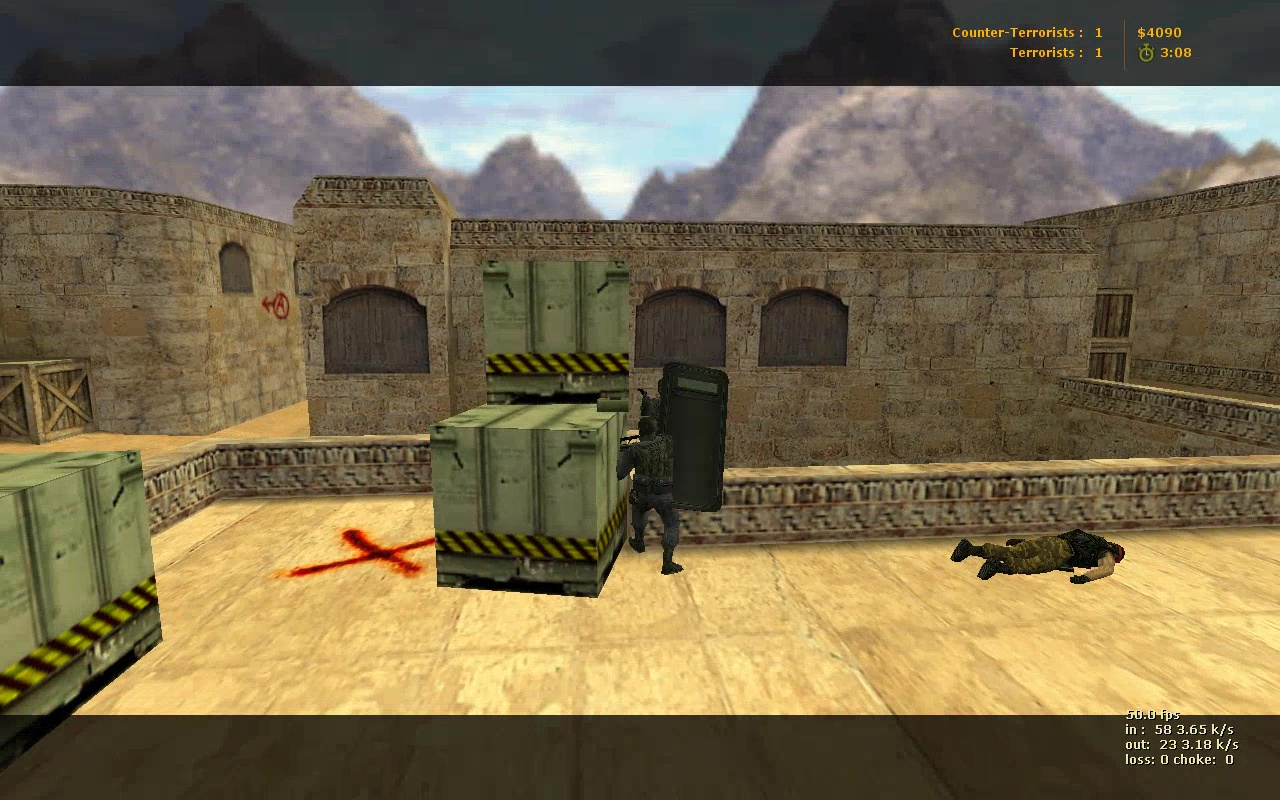ct: (616, 365, 725, 577)
